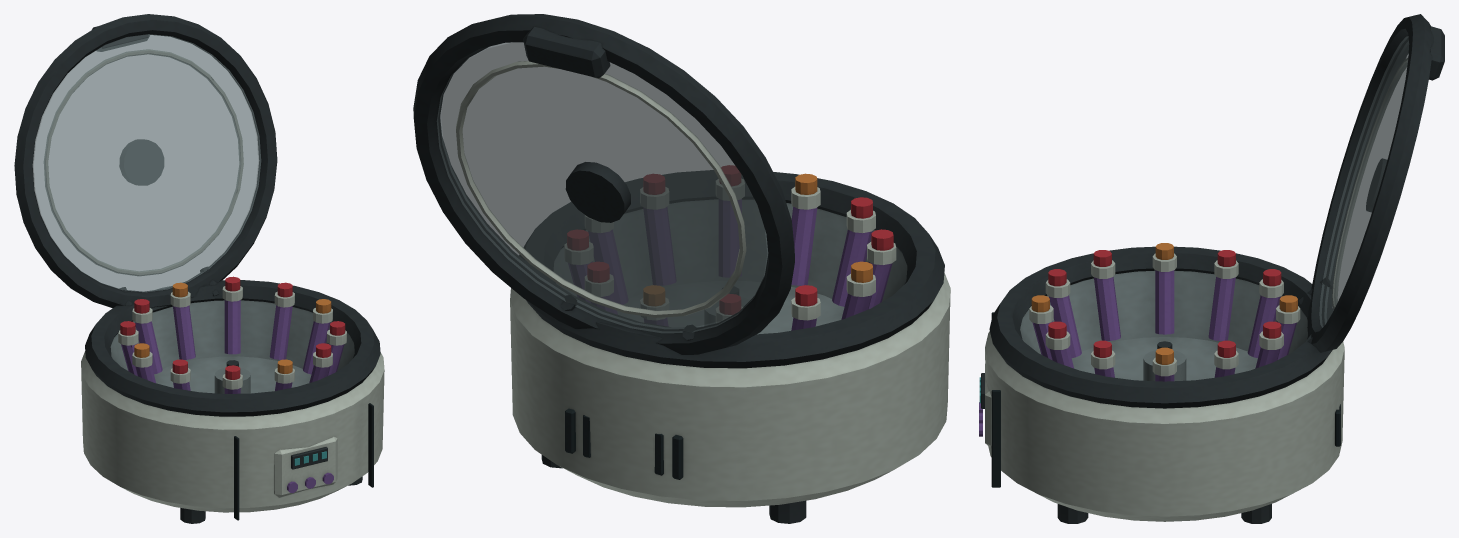
The model's file is centrifuge.glb.
3 views of the same model, side by side, from view 1: azimuth 30°, elevation 25°; view 2: azimuth 150°, elevation 25°; view 3: azimuth 270°, elevation 25° (orthographic). The views are drawn at different scales.
Visible parts, largest first — view 1: centrifuge; view 2: centrifuge; view 3: centrifuge.
Boxes of the visible parts, left/top/right/bottom form: centrifuge: left=14, top=14, right=384, bottom=523; centrifuge: left=413, top=14, right=950, bottom=523; centrifuge: left=979, top=14, right=1444, bottom=523.
Bounding box in the file's own units: 0.47 × 0.6362 × 0.6082.
2 materials, 1 textured.
